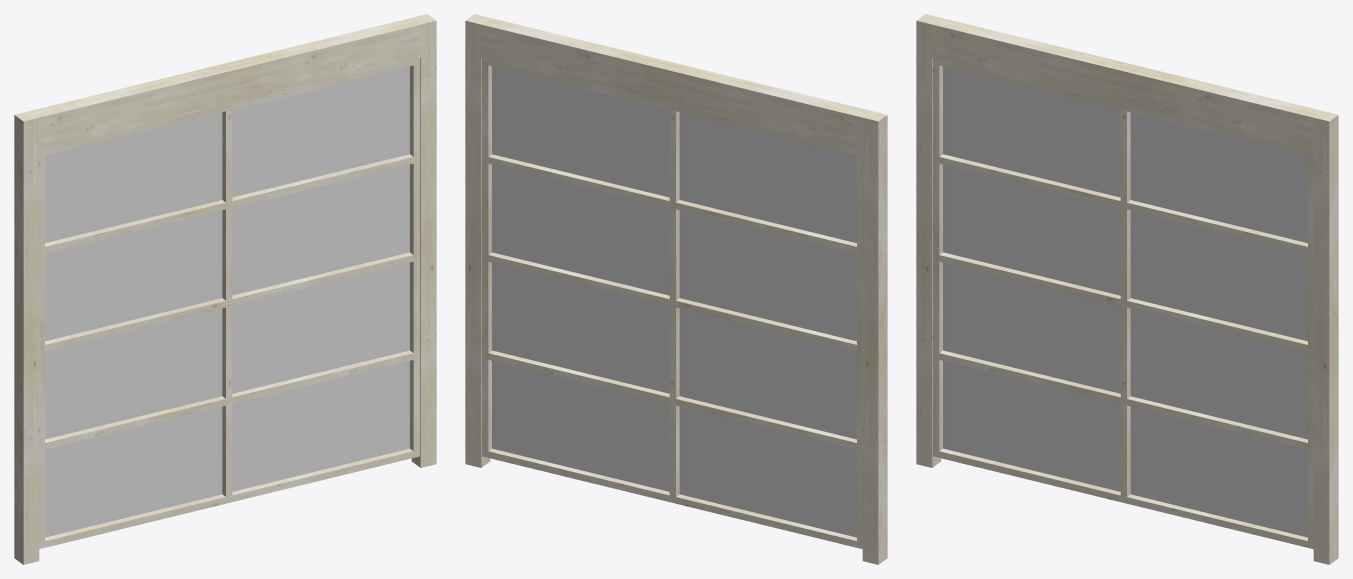
File: es-polycaB_h2000_whitepine.fbx
The picture shows the model from 3 angles, left to right: view 1: azimuth 30°, elevation 25°; view 2: azimuth 150°, elevation 25°; view 3: azimuth 330°, elevation 25°; orthographic projection.
Visible parts, largest first — view 1: es-polycaB_h2000_whitepine; view 2: es-polycaB_h2000_whitepine; view 3: es-polycaB_h2000_whitepine.
Part boxes in pixels (<box>): es-polycaB_h2000_whitepine: <box>14,14,436,564</box>; es-polycaB_h2000_whitepine: <box>465,14,887,564</box>; es-polycaB_h2000_whitepine: <box>916,14,1338,564</box>.
Bounding box in the file's own units: 195 × 200 × 7.5.
Materials: 2 (1 with a texture image).
